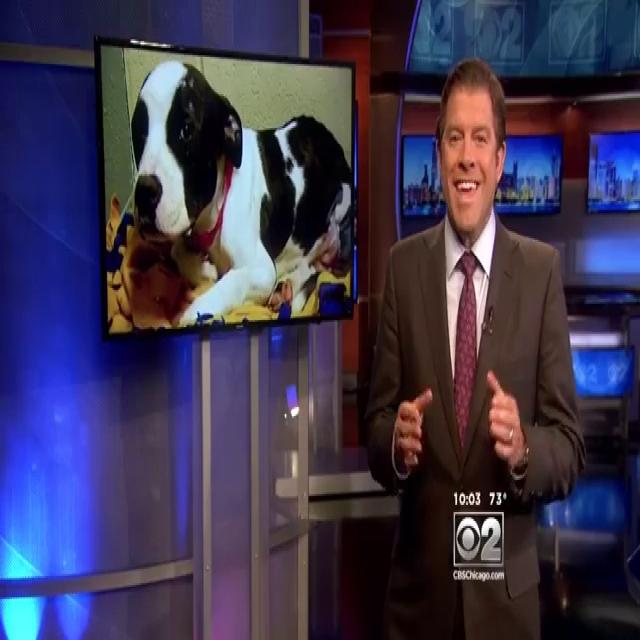normal_animals: (119, 53, 356, 327)
